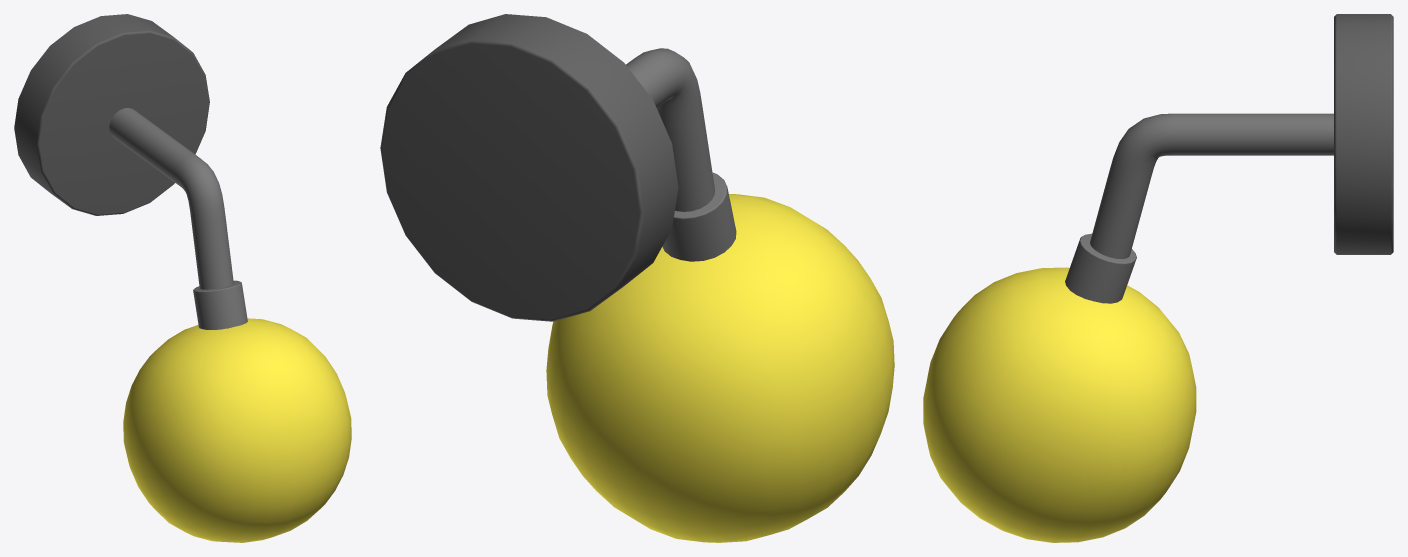
The model's file is Town_16_Wall_Lamp_1.glb.
3 views of the same model, side by side, from view 1: azimuth 30°, elevation 25°; view 2: azimuth 150°, elevation 25°; view 3: azimuth 270°, elevation 25° (orthographic). The views are drawn at different scales.
Visible parts, largest first — view 1: Town_16_Wall_Lamp_1; view 2: Town_16_Wall_Lamp_1; view 3: Town_16_Wall_Lamp_1.
Boxes of the visible parts, x1=… form: Town_16_Wall_Lamp_1: x1=14, y1=14, x2=351, y2=542; Town_16_Wall_Lamp_1: x1=380, y1=14, x2=894, y2=542; Town_16_Wall_Lamp_1: x1=923, y1=14, x2=1393, y2=542.
Size of the model in its own units: 0.3893 by 0.7959 by 0.6728.
Materials: 1 (1 with a texture image).
